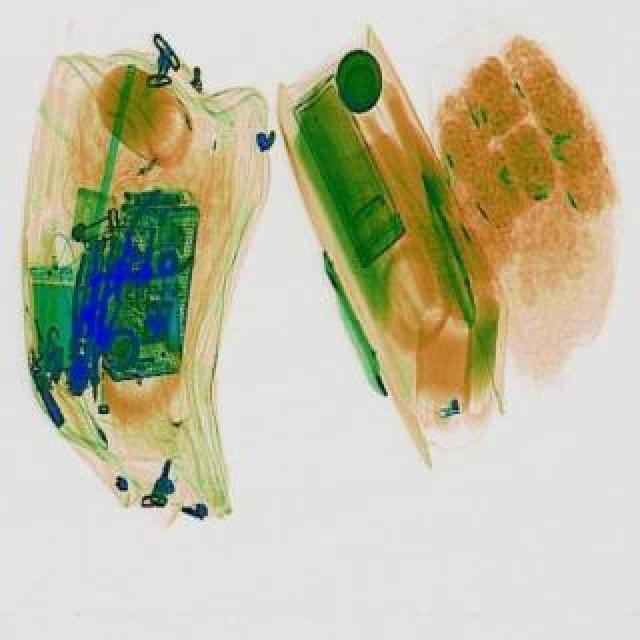wrench: (72, 190, 220, 324)
